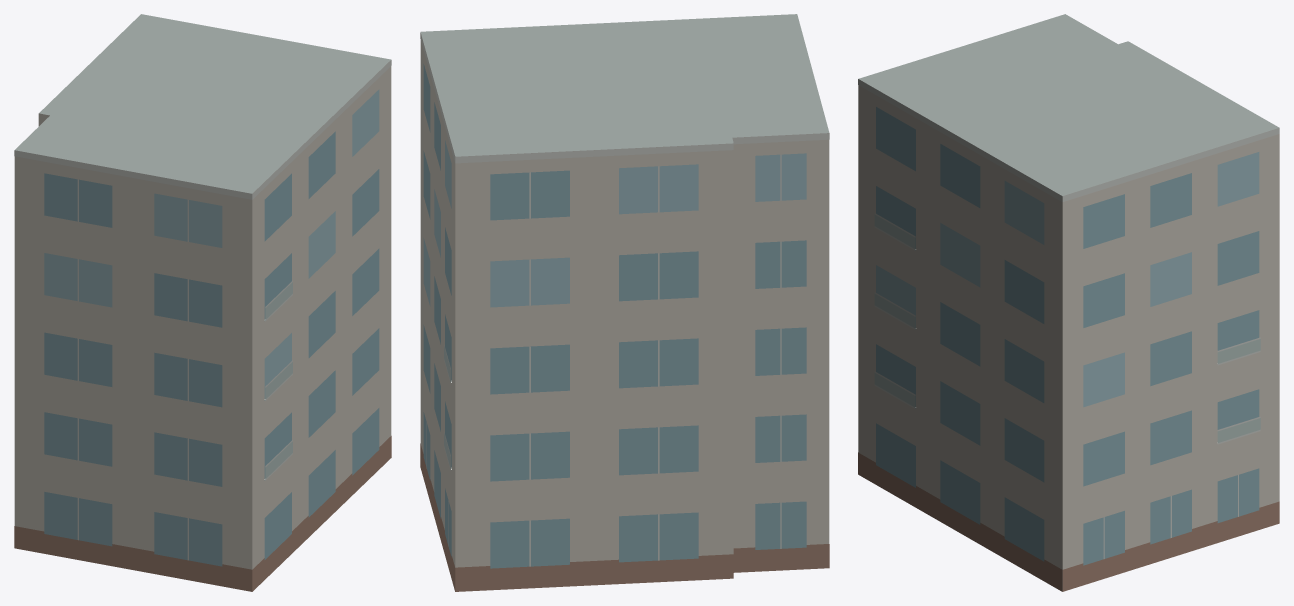
The model's file is survey-upis-32774066.glb.
The picture shows the model from 3 angles, left to right: view 1: azimuth 30°, elevation 25°; view 2: azimuth 150°, elevation 25°; view 3: azimuth 270°, elevation 25°; orthographic projection. The views are drawn at different scales.
Parts seen in each view (by area): view 1: survey-upis-32774066.tmp; view 2: survey-upis-32774066.tmp; view 3: survey-upis-32774066.tmp.
Boxes of the visible parts, left/top/right/bottom form: survey-upis-32774066.tmp: left=14, top=14, right=391, bottom=591; survey-upis-32774066.tmp: left=420, top=14, right=829, bottom=591; survey-upis-32774066.tmp: left=858, top=14, right=1279, bottom=591.
Size of the model in its own units: 15.71 by 15.9 by 15.36.
